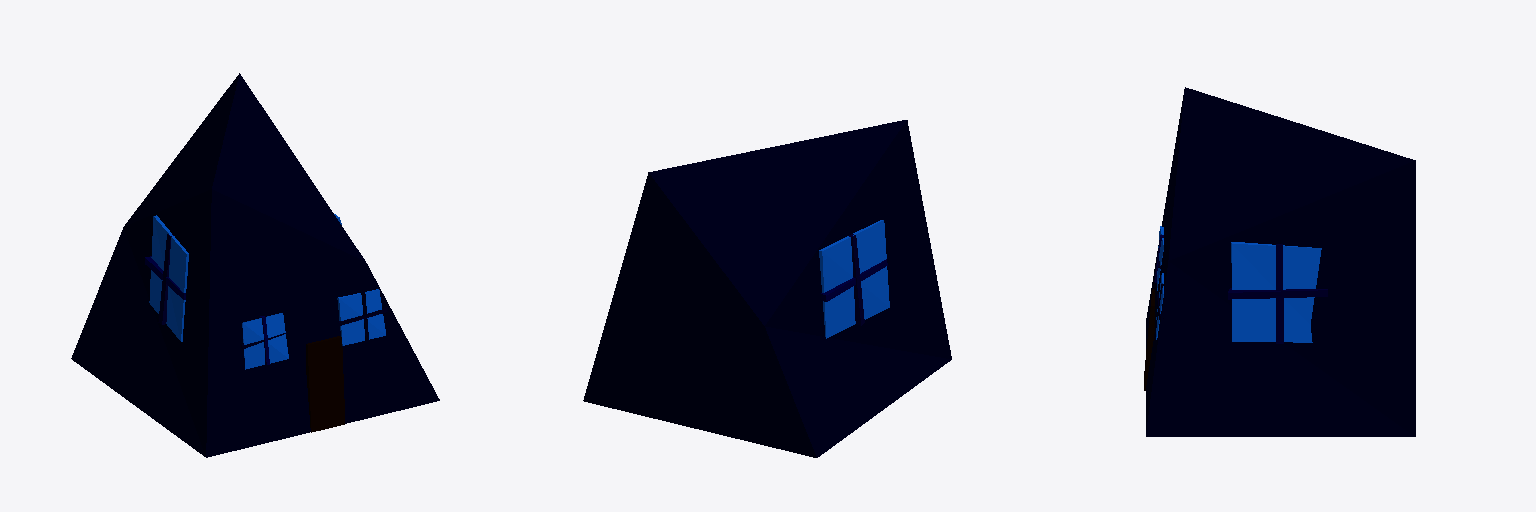
The model's file is house_2.obj.
3 views of the same model, side by side, from view 1: azimuth 30°, elevation 25°; view 2: azimuth 150°, elevation 25°; view 3: azimuth 270°, elevation 25° (orthographic).
Parts seen in each view (by area): view 1: Cube, Cube.013, Cube.001, Cube.012, Cube.007, Cube.002; view 2: Cube, Cube.001, Cube.002, Cube.003; view 3: Cube, Cube.006, Cube.004, Cube.005.
Part boxes in pixels (bbox=[...]): Cube: bbox=[71, 73, 439, 457]; Cube.013: bbox=[306, 336, 344, 432]; Cube.001: bbox=[149, 215, 188, 341]; Cube.012: bbox=[337, 289, 385, 345]; Cube.007: bbox=[242, 313, 288, 369]; Cube.002: bbox=[158, 234, 173, 324]; Cube: bbox=[583, 120, 951, 457]; Cube.001: bbox=[819, 220, 889, 338]; Cube.002: bbox=[849, 234, 864, 325]; Cube.003: bbox=[820, 259, 887, 301]; Cube: bbox=[1146, 87, 1415, 436]; Cube.006: bbox=[1231, 242, 1321, 342]; Cube.004: bbox=[1228, 288, 1327, 299]; Cube.005: bbox=[1276, 244, 1283, 343].
Bounding box in the file's own units: 5.68 × 5.76 × 5.71.